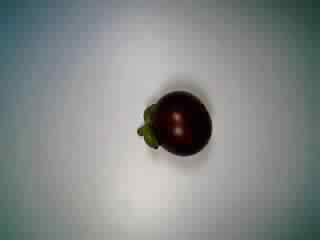mangosteen: (135, 84, 214, 162)
